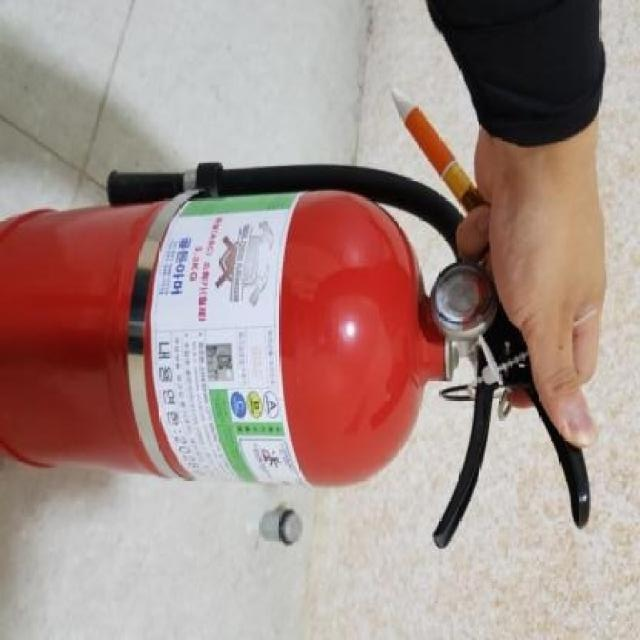fire extinguisher: (0, 161, 593, 550)
